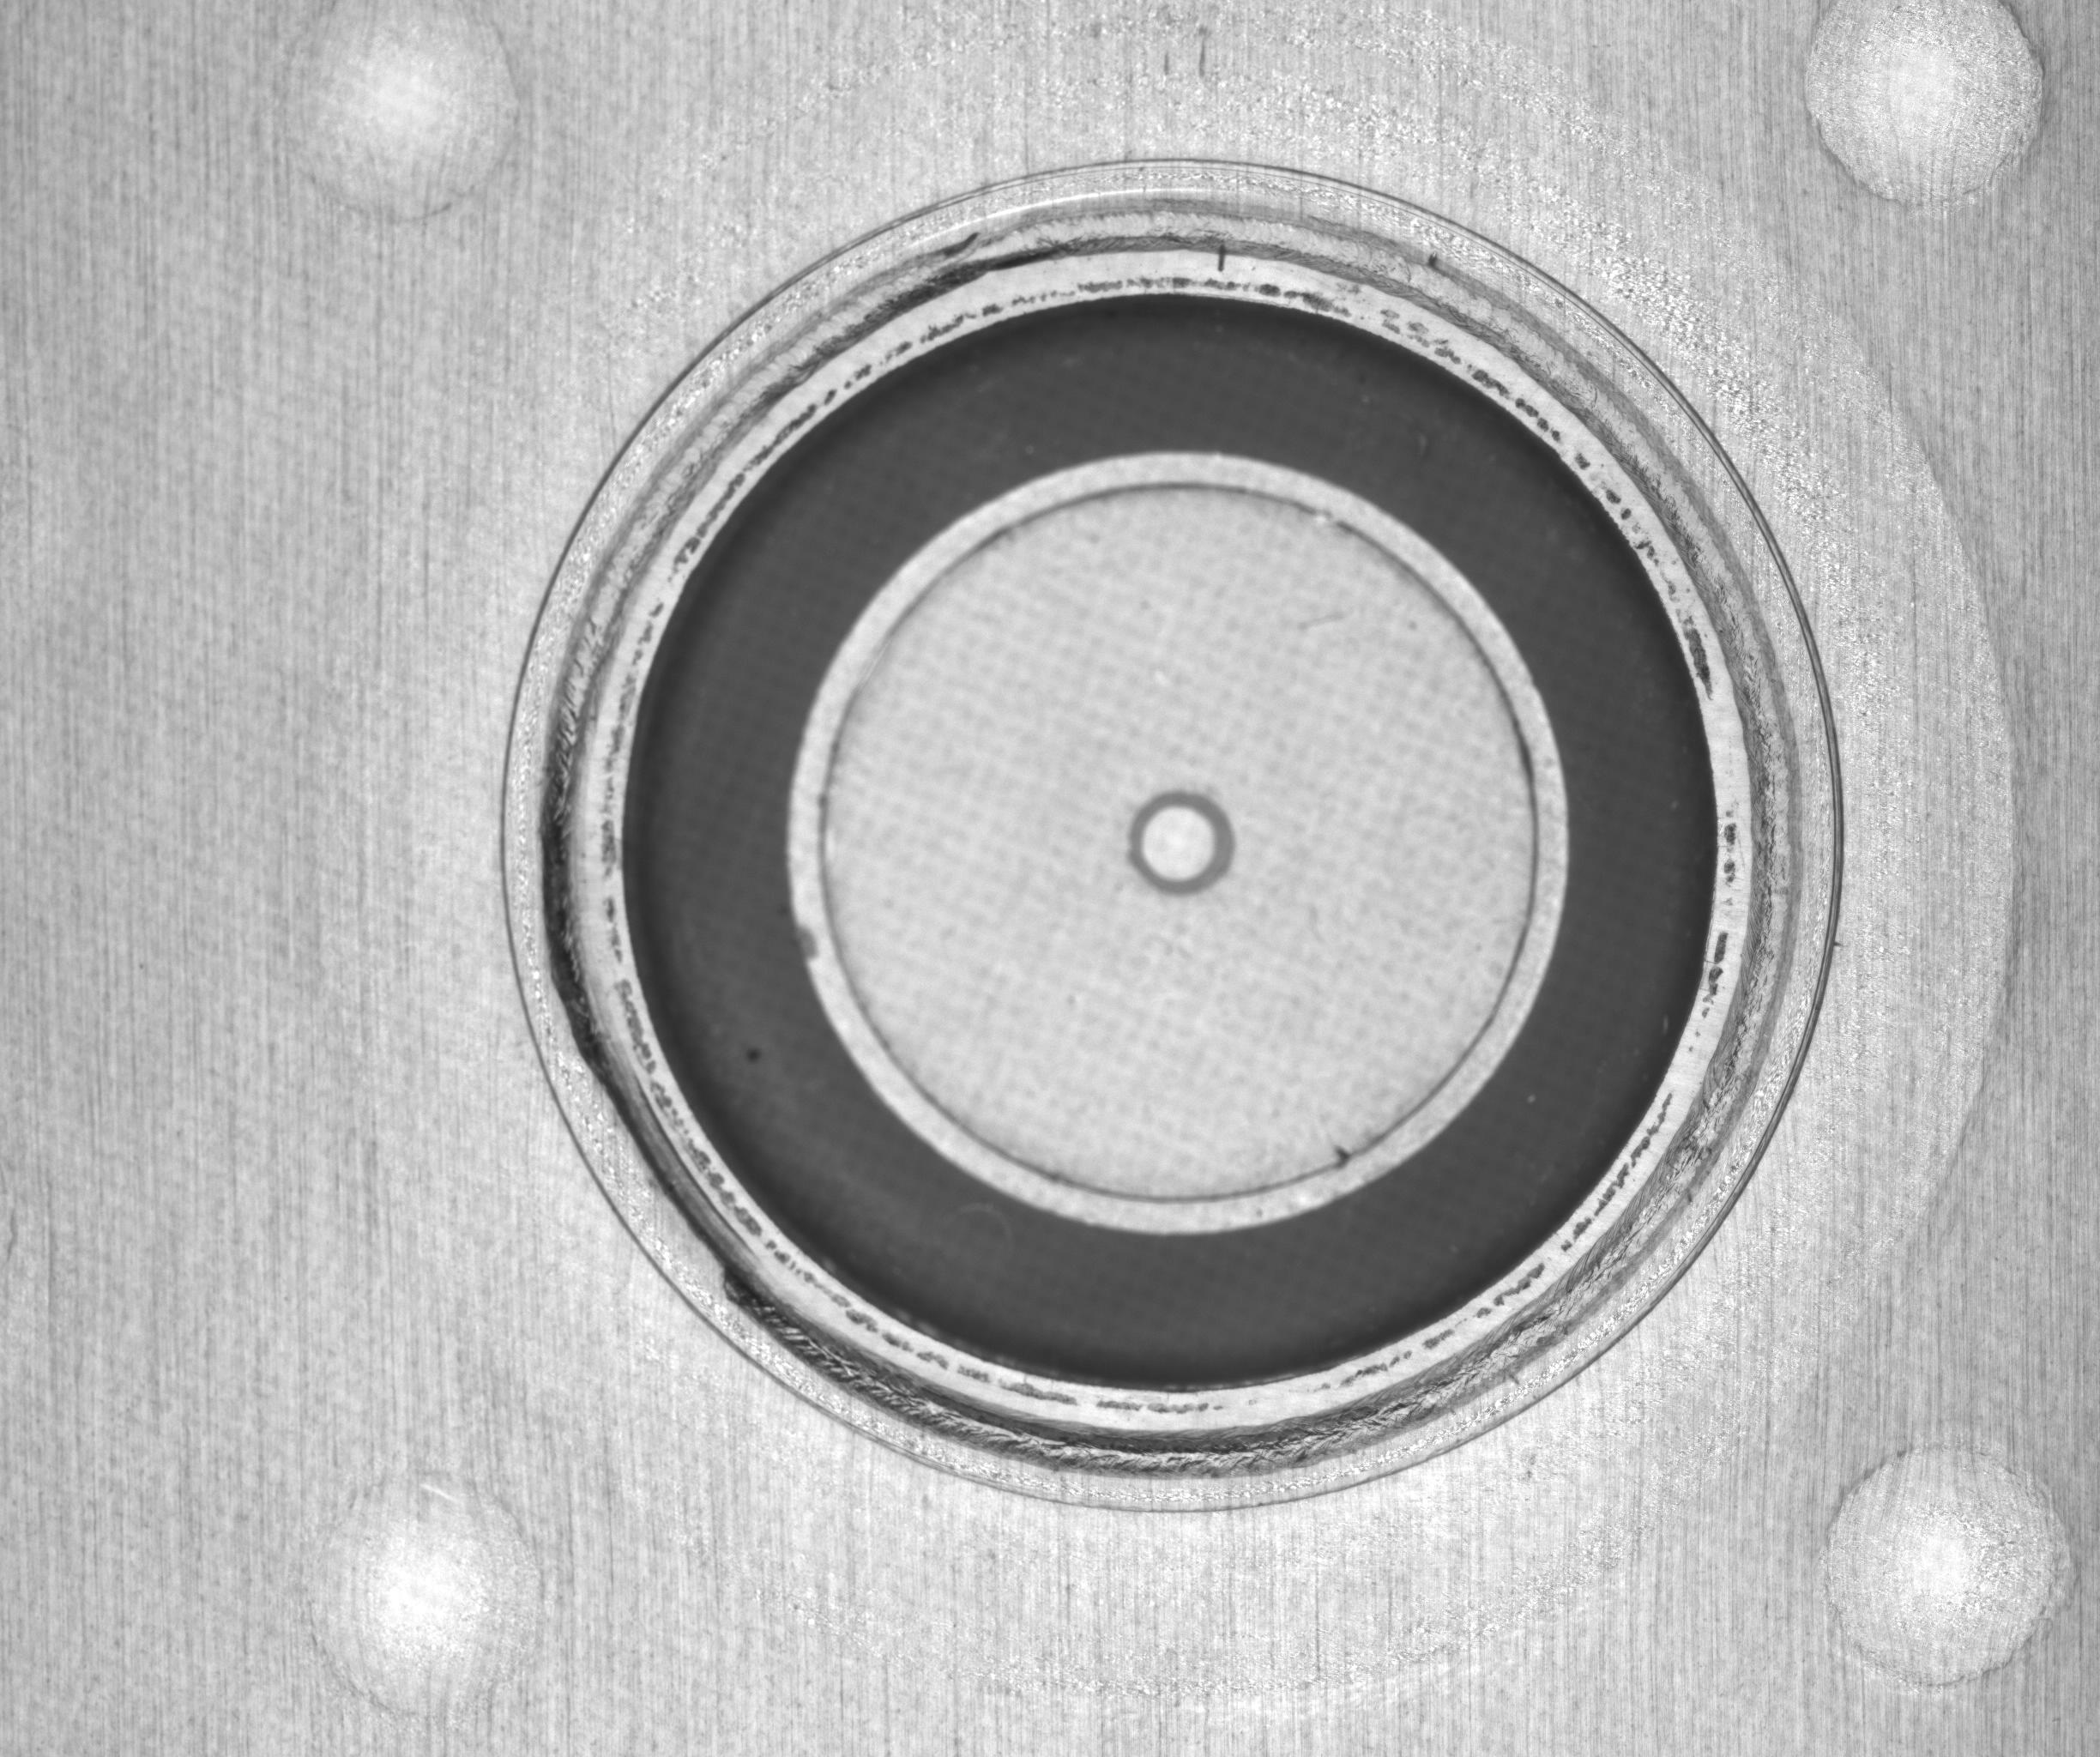lackofweld: (530, 991, 790, 1309)
